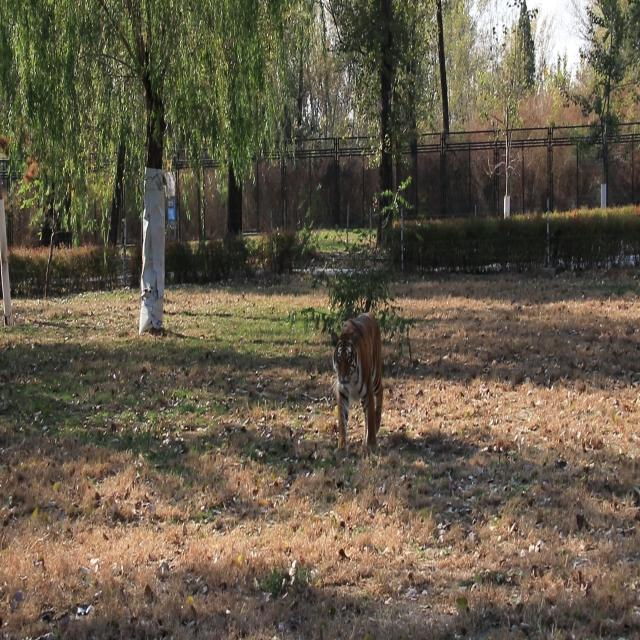Tiger: (317, 299, 393, 462)
